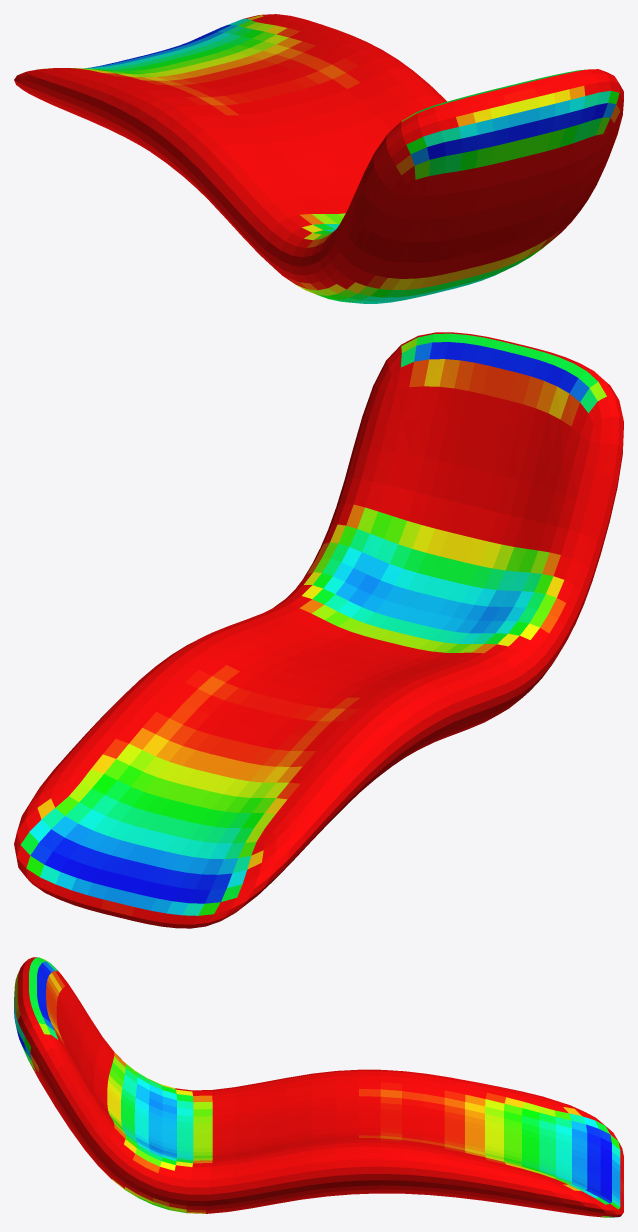
File: chair_no_opt_quality.obj
The picture shows the model from 3 angles, top to bottom: view 1: azimuth 30°, elevation 25°; view 2: azimuth 150°, elevation 25°; view 3: azimuth 270°, elevation 25°; orthographic projection. The views are drawn at different scales.
Size of the model in its own units: 2.39 by 2.54 by 6.59.
